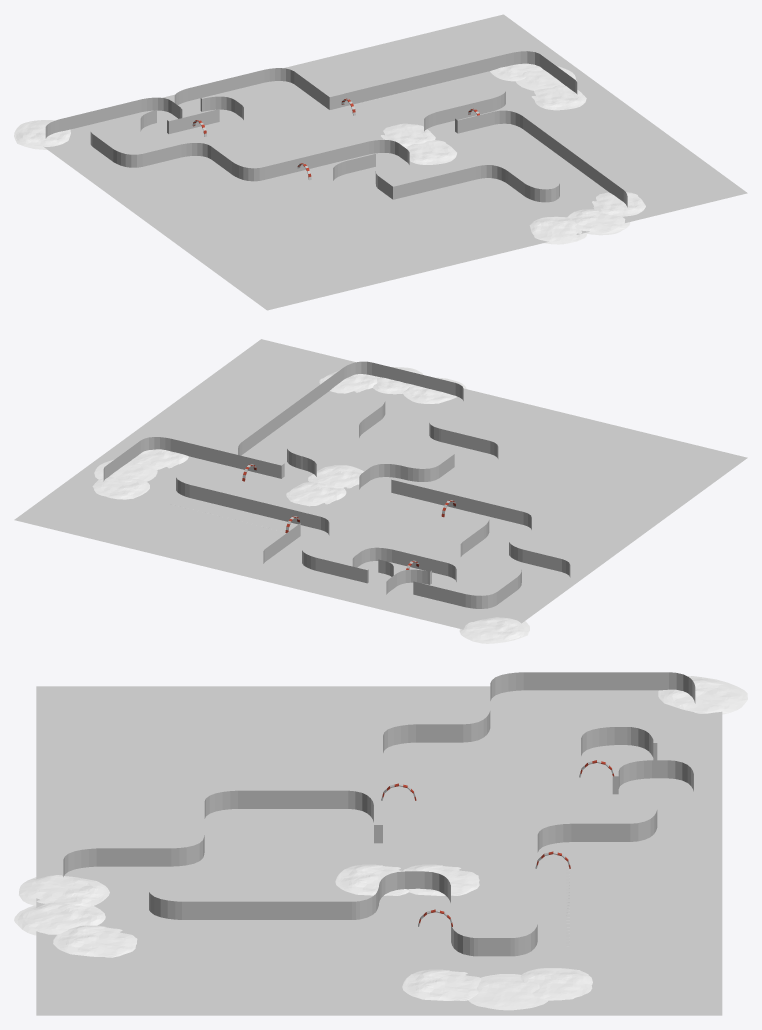
The model's file is drift-collision.glb.
3 renders of one model, top to bottom at view 1: azimuth 30°, elevation 25°; view 2: azimuth 150°, elevation 25°; view 3: azimuth 270°, elevation 25°, orthographic. The views are drawn at different scales.
Visible parts, largest first — view 1: Plane.001, Plane, Plane.027, SM_Generic_Ground_03.008, SM_Generic_Ground_03.009, SM_Generic_Ground_03.007, SM_Generic_Ground_03.002, SM_Generic_Ground_03.004, SM_Generic_Ground_03.006, SM_Generic_Ground_03.005, SM_Generic_Ground_03.001, SM_Generic_Ground_03.003; view 2: Plane.001, Plane, Plane.027, SM_Generic_Ground_03.009, SM_Generic_Ground_03.005, SM_Generic_Ground_03.003, SM_Generic_Ground_03.004, SM_Generic_Ground_03.001, SM_Generic_Ground_03.002, SM_Generic_Ground_03.008, SM_Generic_Ground_03.006, SM_Generic_Ground_03.007; view 3: Plane.001, Plane, Plane.027, SM_Generic_Ground_03.008, SM_Generic_Ground_03.009, SM_Generic_Ground_03.007, SM_Generic_Ground_03.006, SM_Generic_Ground_03.001, SM_Generic_Ground_03.002, SM_Generic_Ground_03.003, SM_Generic_Ground_03.004, SM_Generic_Ground_03.005.
Part boxes in pixels (left/top/right/bottom): Plane.001: left=43, top=14, right=747, bottom=310; Plane: left=45, top=51, right=627, bottom=207; Plane.027: left=90, top=91, right=559, bottom=202; SM_Generic_Ground_03.008: left=529, top=216, right=586, bottom=244; SM_Generic_Ground_03.009: left=14, top=120, right=70, bottom=149; SM_Generic_Ground_03.007: left=567, top=209, right=630, bottom=235; SM_Generic_Ground_03.002: left=531, top=85, right=586, bottom=110; SM_Generic_Ground_03.004: left=406, top=140, right=456, bottom=164; SM_Generic_Ground_03.006: left=592, top=192, right=645, bottom=216; SM_Generic_Ground_03.005: left=381, top=123, right=435, bottom=148; SM_Generic_Ground_03.001: left=516, top=66, right=576, bottom=90; SM_Generic_Ground_03.003: left=490, top=63, right=542, bottom=81; Plane.001: left=14, top=339, right=747, bottom=629; Plane: left=103, top=361, right=570, bottom=594; Plane.027: left=176, top=401, right=521, bottom=608; SM_Generic_Ground_03.009: left=459, top=617, right=529, bottom=643; SM_Generic_Ground_03.005: left=286, top=482, right=346, bottom=506; SM_Generic_Ground_03.003: left=92, top=477, right=149, bottom=499; SM_Generic_Ground_03.004: left=308, top=465, right=363, bottom=488; SM_Generic_Ground_03.001: left=94, top=460, right=157, bottom=482; SM_Generic_Ground_03.002: left=131, top=449, right=188, bottom=469; SM_Generic_Ground_03.008: left=403, top=377, right=466, bottom=403; SM_Generic_Ground_03.006: left=319, top=370, right=377, bottom=393; SM_Generic_Ground_03.007: left=373, top=367, right=423, bottom=394; Plane.001: left=36, top=686, right=722, bottom=1015; Plane: left=63, top=672, right=695, bottom=876; Plane.027: left=149, top=727, right=657, bottom=956; SM_Generic_Ground_03.008: left=19, top=875, right=109, bottom=906; SM_Generic_Ground_03.009: left=658, top=676, right=747, bottom=714; SM_Generic_Ground_03.007: left=14, top=902, right=105, bottom=935; SM_Generic_Ground_03.006: left=53, top=925, right=137, bottom=957; SM_Generic_Ground_03.001: left=468, top=974, right=547, bottom=1010; SM_Generic_Ground_03.002: left=402, top=969, right=481, bottom=1000; SM_Generic_Ground_03.003: left=520, top=968, right=592, bottom=1000; SM_Generic_Ground_03.004: left=335, top=864, right=408, bottom=895; SM_Generic_Ground_03.005: left=403, top=864, right=479, bottom=895.
Size of the model in its own units: 308 by 14.49 by 281.
2 materials, 1 textured.
